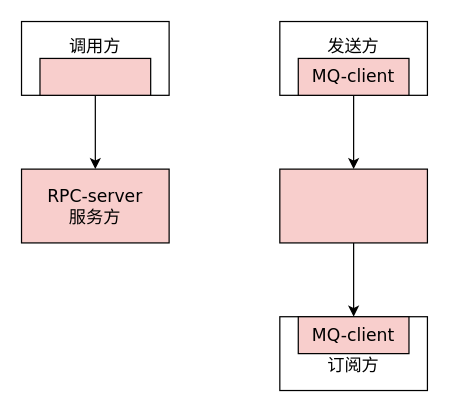
The diagram is 449 pixels wide and 412 high, and some of its shapes have lost their labels. Here are the shapes that lost their labels. From the top down, the centre of each, then its label:
At (x=95, y=76): "RPC-client".
At (x=353, y=205): "MQ-server 服务方".
